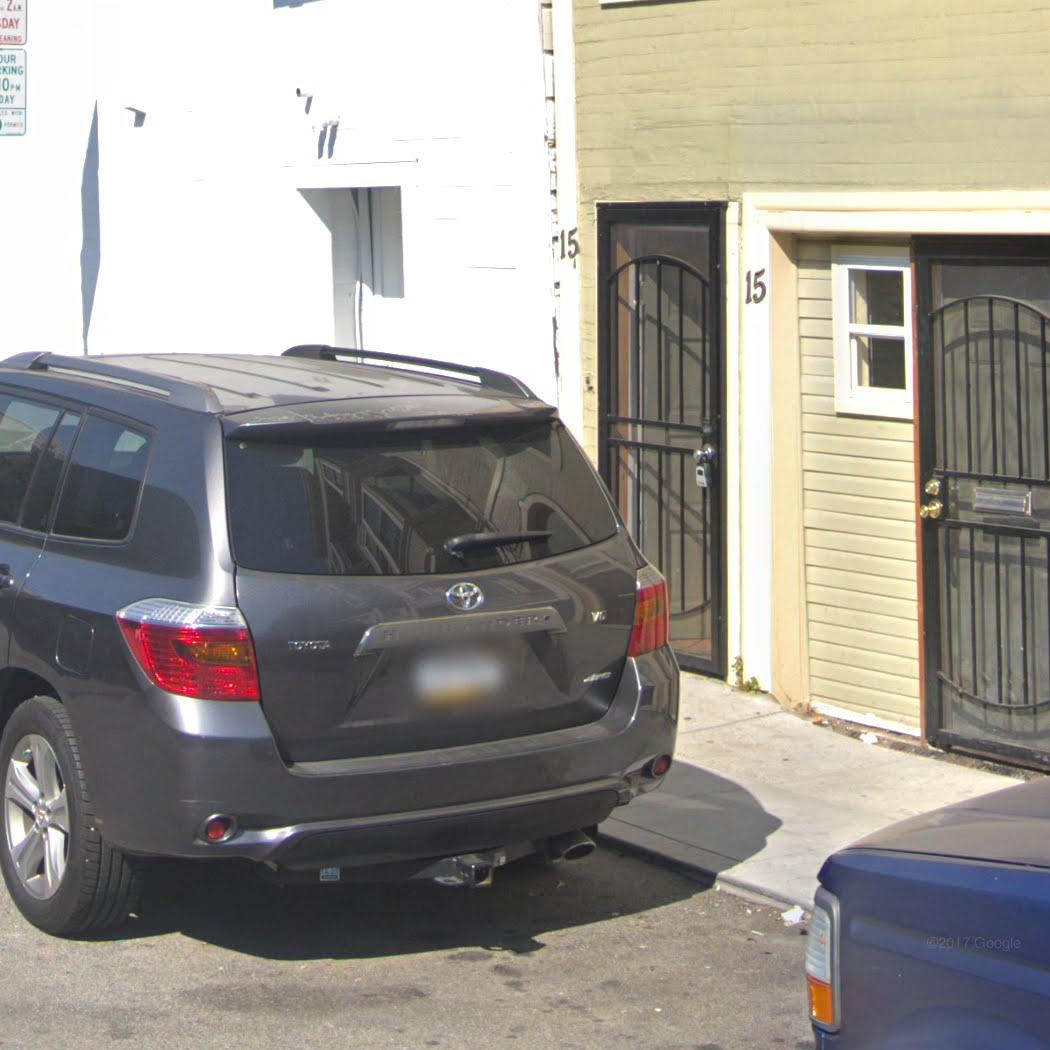2 Hour Parking: (0, 51, 29, 138)
No Parking: (0, 1, 33, 46)
